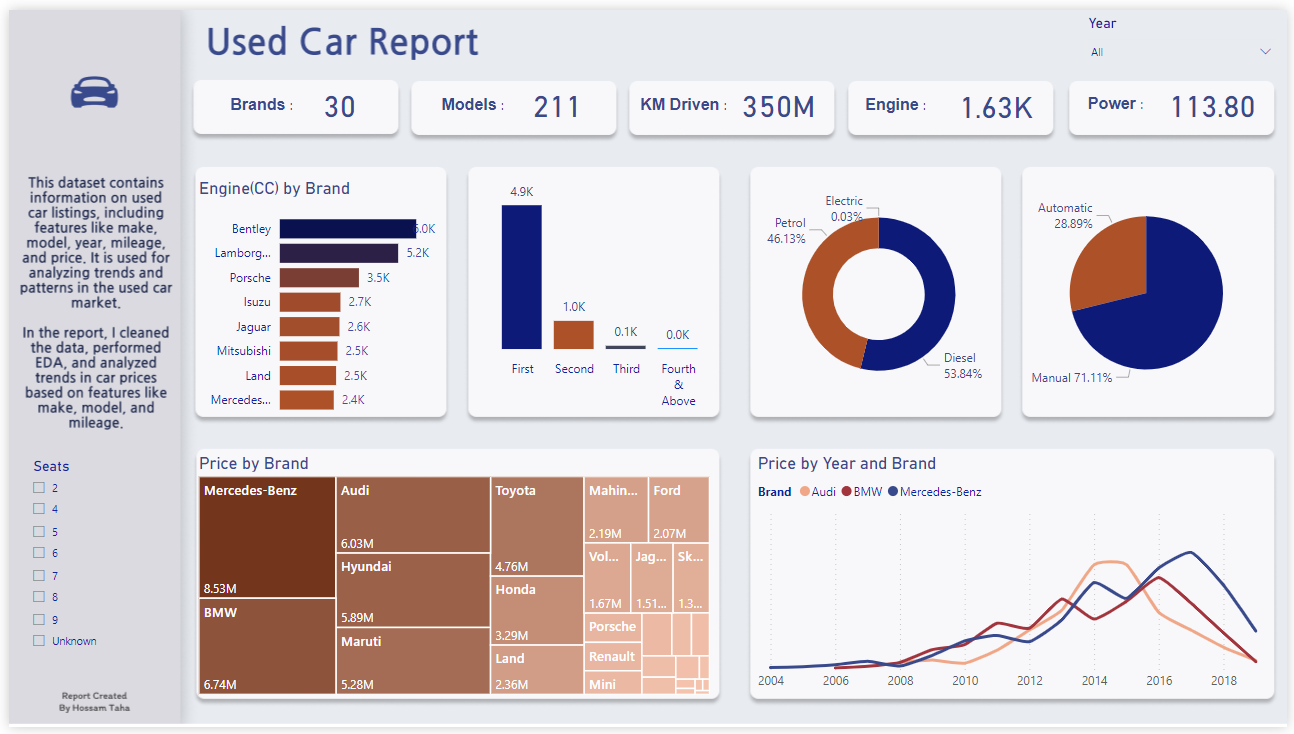

The dashboard page shown, as its layout file describes it:
{"tool":"powerbi","page":{"name":"Overview","canvas":[1278,717],"ordinal":0},"visuals":[{"type":"card","title":"Brands","fields":{"Values":["Dax Measures.Brands"]},"box":[277,67.8,106.9,54],"z":0},{"type":"textbox","box":[216.1,81.6,81.6,29.9],"z":1000},{"type":"textbox","box":[427.6,81.6,81.6,29.9],"z":2000},{"type":"card","title":"Brands","fields":{"Values":["Dax Measures.Models"]},"box":[495.4,67.8,106.9,54],"z":3000},{"type":"card","title":"Brands","fields":{"Values":["Dax Measures.Power(Php)"]},"box":[1142.5,67.8,121.8,54],"z":4000},{"type":"card","title":"Brands","fields":{"Values":["Dax Measures.Engine(CC)"]},"box":[933.3,69,106.9,54],"z":5000},{"type":"card","title":"Brands","fields":{"Values":["Dax Measures.KM Driven"]},"box":[716.1,67.8,106.9,54],"z":6000},{"type":"textbox","box":[1073.6,80.5,129.9,29.9],"z":7000},{"type":"textbox","box":[851.7,81.6,81.6,29.9],"z":8000},{"type":"textbox","box":[626.4,81.6,106.9,29.9],"z":9000},{"type":"treemap","fields":{"Group":["Used-Cars.Cars Hierarchy.Brand","Used-Cars.Cars Hierarchy.Model","Used-Cars.Cars Hierarchy.Car Name"],"Values":["Dax Measures.Price"]},"box":[185.1,442.5,520.7,247.1],"z":10000},{"type":"donutChart","fields":{"Category":["Used-Cars.Fuel Type"],"Y":["Dax Measures.Fuel"]},"box":[743.8,161.2,252.5,246.2],"z":11000},{"type":"lineChart","fields":{"Category":["Used-Cars.Year.Variation.Date Hierarchy.Year","Used-Cars.Year.Variation.Date Hierarchy.Quarter","Used-Cars.Year.Variation.Date Hierarchy.Month","Used-Cars.Year.Variation.Date Hierarchy.Day"],"Series":["Used-Cars.Brand"],"Y":["Dax Measures.Price"]},"box":[743.8,442.5,521.2,246.2],"z":12000},{"type":"columnChart","fields":{"Category":["Used-Cars.Owner Type"],"Y":["Dax Measures.Owner Type"]},"box":[461.2,160,255,246.2],"z":13000},{"type":"barChart","fields":{"Category":["Used-Cars.Brand"],"Y":["Dax Measures.Engine(CC)"]},"box":[185,167.5,246.2,247.5],"z":14000},{"type":"slicer","fields":{"Values":["Used-Cars.Seats"]},"box":[11.2,442.5,151.2,208.8],"z":15000},{"type":"slicer","fields":{"Values":["Used-Cars.Year.Variation.Date Hierarchy.Year"]},"box":[1066.2,0,211.2,67.5],"z":16000},{"type":"pieChart","fields":{"Category":["Used-Cars.Transmission"],"Y":["Dax Measures.Fuel"]},"box":[1011.2,160,252.5,246.2],"z":17000}]}

Visuals, with their boxes in screenshot pixels (x1, y1, x2, y2), scaled from the page's 1278x717 canvas onto the 1294x734 screenshot:
"Brands" card: (left=280, top=69, right=389, bottom=125)
textbox: (left=219, top=84, right=301, bottom=114)
textbox: (left=433, top=84, right=516, bottom=114)
"Brands" card: (left=502, top=69, right=610, bottom=125)
"Brands" card: (left=1157, top=69, right=1280, bottom=125)
"Brands" card: (left=945, top=71, right=1053, bottom=126)
"Brands" card: (left=725, top=69, right=833, bottom=125)
textbox: (left=1087, top=82, right=1219, bottom=113)
textbox: (left=862, top=84, right=945, bottom=114)
textbox: (left=634, top=84, right=742, bottom=114)
treemap - Used-Cars.Cars Hierarchy.Brand x Used-Cars.Cars Hierarchy.Model: (left=187, top=453, right=715, bottom=706)
donutChart - Used-Cars.Fuel Type x Dax Measures.Fuel: (left=753, top=165, right=1009, bottom=417)
lineChart - Used-Cars.Year.Variation.Date Hierarchy.Year x Used-Cars.Year.Variation.Date Hierarchy.Quarter: (left=753, top=453, right=1281, bottom=705)
columnChart - Used-Cars.Owner Type x Dax Measures.Owner Type: (left=467, top=164, right=725, bottom=416)
barChart - Used-Cars.Brand x Dax Measures.Engine(CC): (left=187, top=171, right=437, bottom=425)
slicer - Used-Cars.Seats: (left=11, top=453, right=164, bottom=667)
slicer - Used-Cars.Year.Variation.Date Hierarchy.Year: (left=1080, top=0, right=1293, bottom=69)
pieChart - Used-Cars.Transmission x Dax Measures.Fuel: (left=1024, top=164, right=1280, bottom=416)
